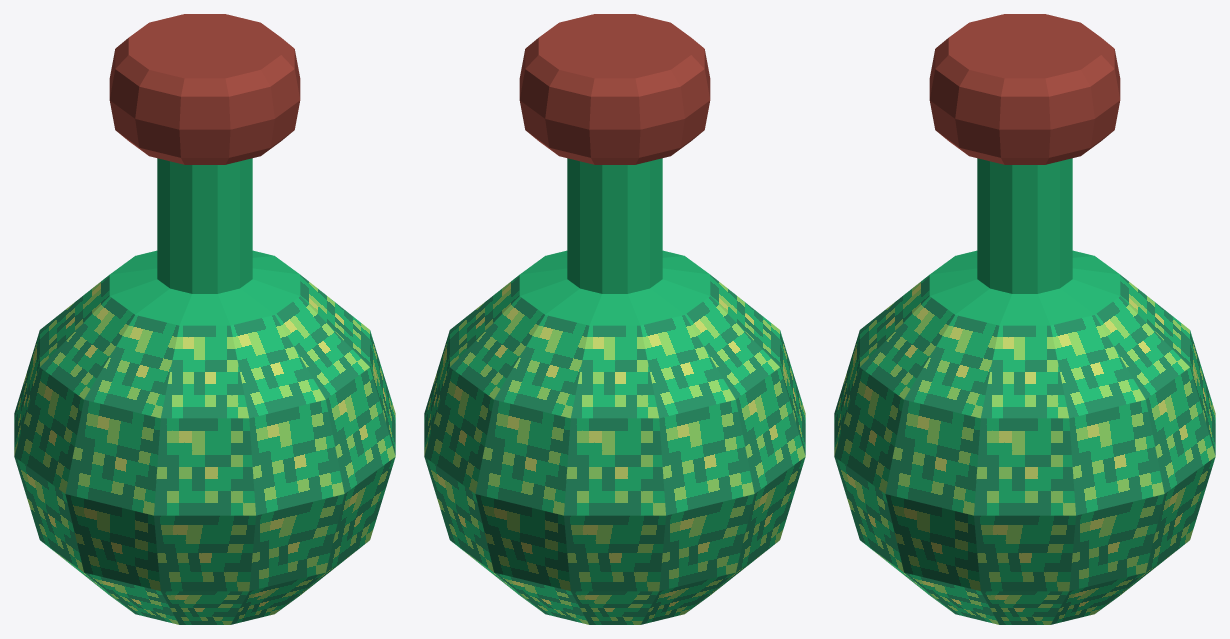
File: ER_InvincibilityPotion.fbx
The picture shows the model from 3 angles, left to right: view 1: azimuth 30°, elevation 25°; view 2: azimuth 150°, elevation 25°; view 3: azimuth 270°, elevation 25°; orthographic projection.
Visible parts, largest first — view 1: Potion; view 2: Potion; view 3: Potion.
Boxes of the visible parts, x1=… form: Potion: x1=14, y1=14, x2=395, y2=624; Potion: x1=424, y1=14, x2=805, y2=624; Potion: x1=834, y1=14, x2=1215, y2=624.
Size of the model in its own units: 50 by 81.25 by 50.
1 material, 1 textured.
